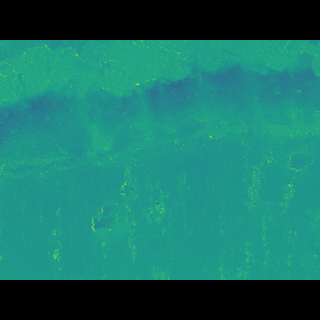Loch: (0, 70, 320, 173)
